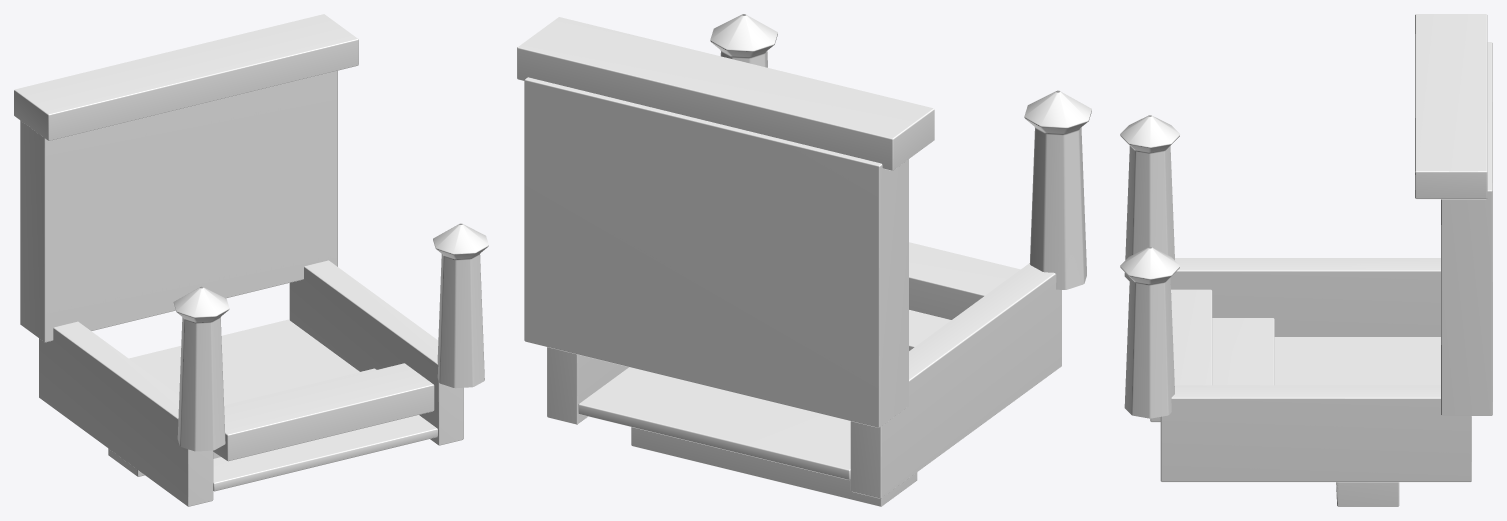
File: stairs.glb
The picture shows the model from 3 angles, left to right: view 1: azimuth 30°, elevation 25°; view 2: azimuth 150°, elevation 25°; view 3: azimuth 270°, elevation 25°; orthographic projection. The views are drawn at different scales.
Visible parts, largest first — view 1: Stairs; view 2: Stairs; view 3: Stairs.
Boxes of the visible parts, left/top/right/bottom form: Stairs: left=14, top=14, right=488, bottom=506; Stairs: left=517, top=14, right=1091, bottom=506; Stairs: left=1120, top=14, right=1492, bottom=506.
Bounding box in the file's own units: 3.6 × 3.85 × 3.59.
Materials: 1 (1 with a texture image).
